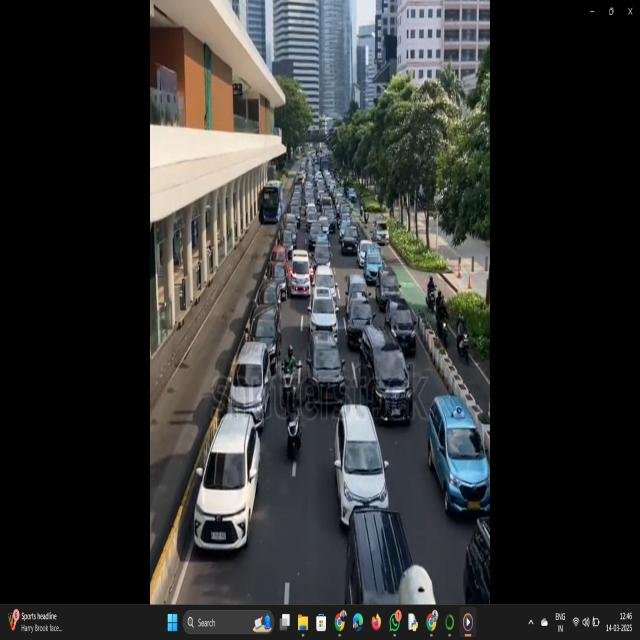Ambulance: (288, 245, 310, 296)
